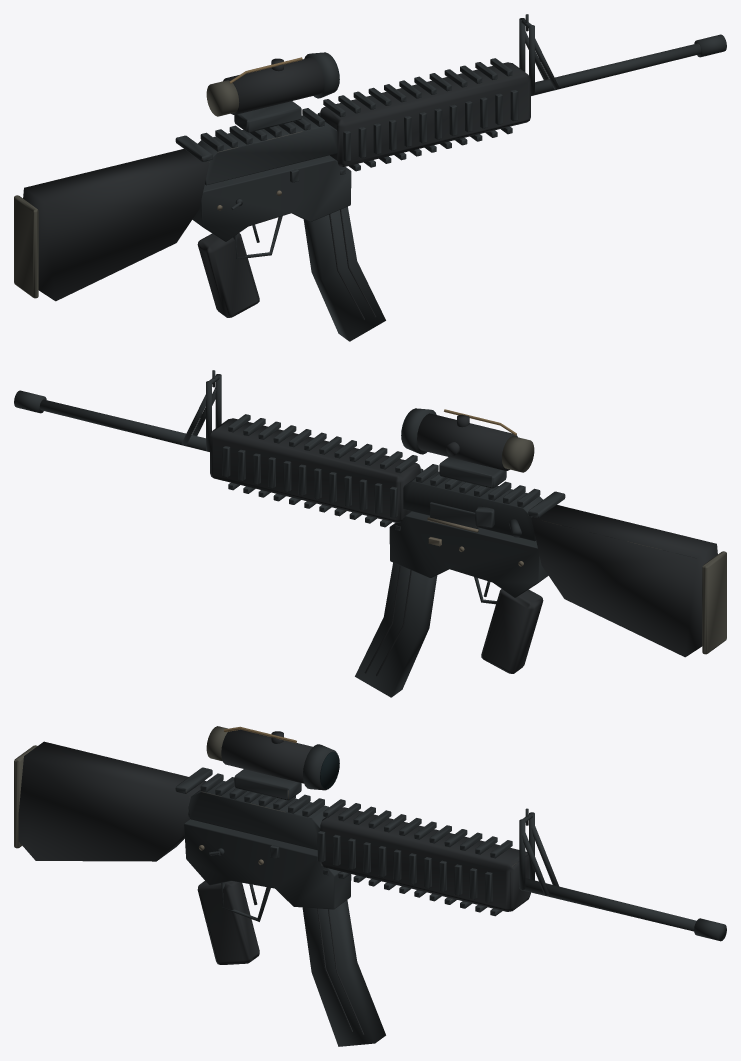
The picture shows the model from 3 angles, top to bottom: view 1: azimuth 30°, elevation 25°; view 2: azimuth 150°, elevation 25°; view 3: azimuth 330°, elevation 25°; orthographic projection.
Parts seen in each view (by area): view 1: M16A4_Separate_Weapon; view 2: M16A4_Separate_Weapon; view 3: M16A4_Separate_Weapon.
Part boxes in pixels (x1,y1,x2,y2): M16A4_Separate_Weapon: (14,14,726,341); M16A4_Separate_Weapon: (14,370,726,697); M16A4_Separate_Weapon: (14,726,726,1046).
Bounding box in the file's own units: 1.01 × 0.406 × 0.0786.
Materials: 1 (1 with a texture image).
